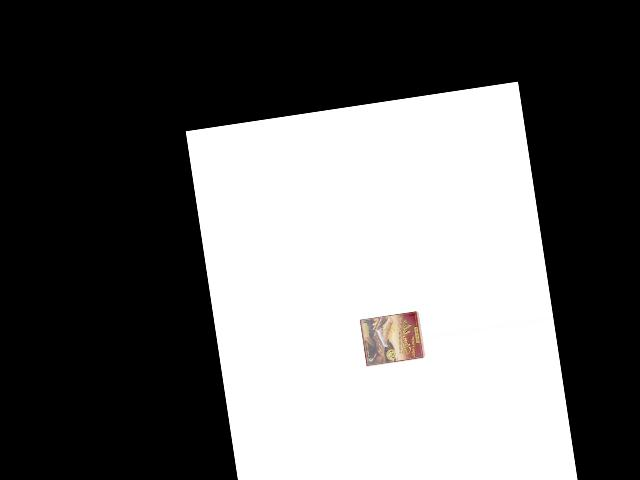chocolate: (359, 311, 425, 366)
